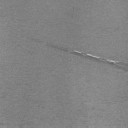finishing roll printing: (31, 38, 128, 72)
